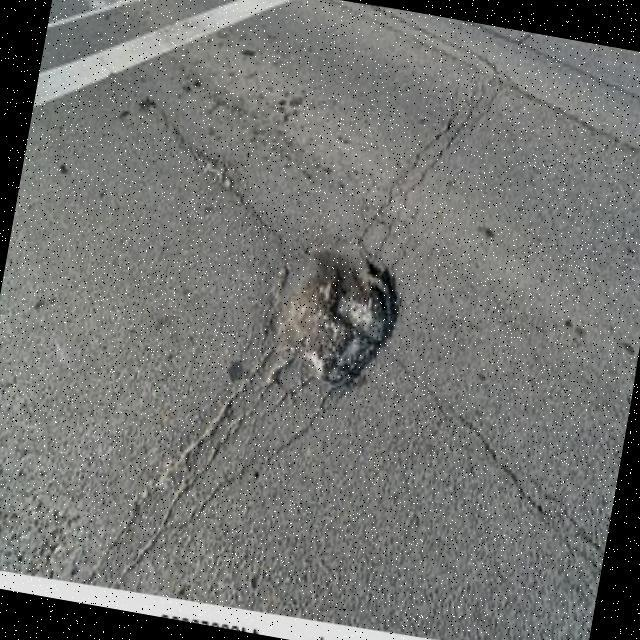Pothole: (271, 247, 400, 386)
